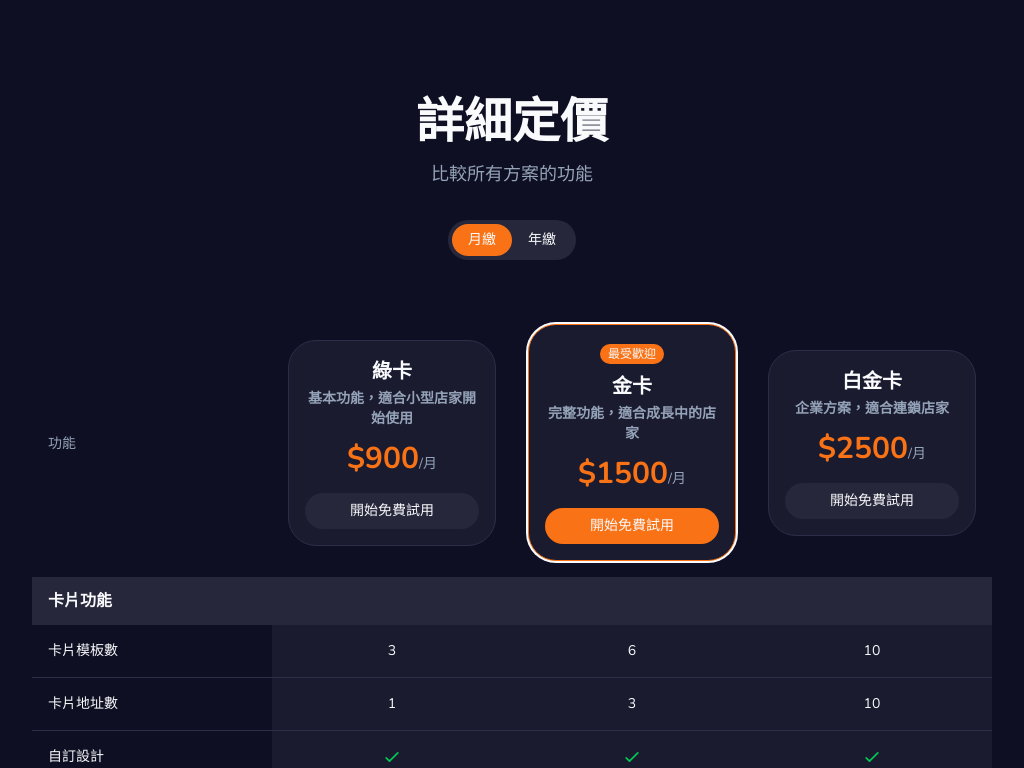
Scenario: BDD: DetailedPricingPage Gherkin 場景對應 › Pricing toggle › switches to yearly prices when yearly button clicked
What coordinates should you click on to do the following:
click the button "年繳"
I would click on:
 (542, 240)
Its box is [512,224,572,256].
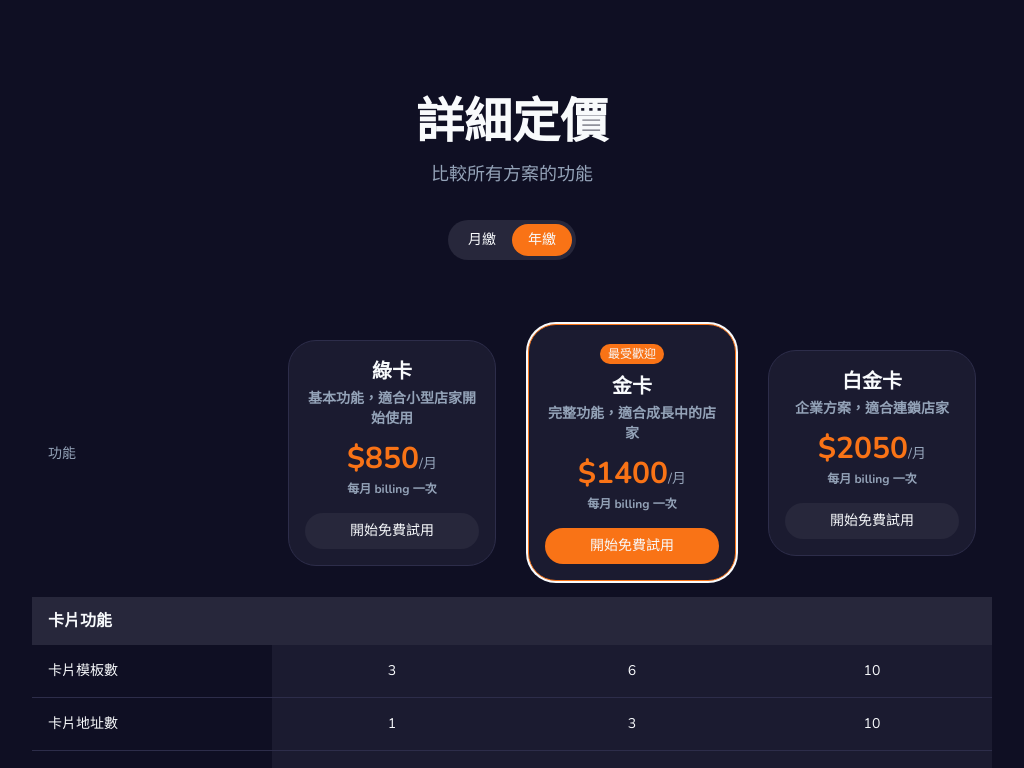
Expected: the text "$850" is shown, [347,438,437,478]
Expected: the text "$1400" is shown, [578,453,686,494]
Expected: the text "$2050" is shown, [818,428,926,468]
